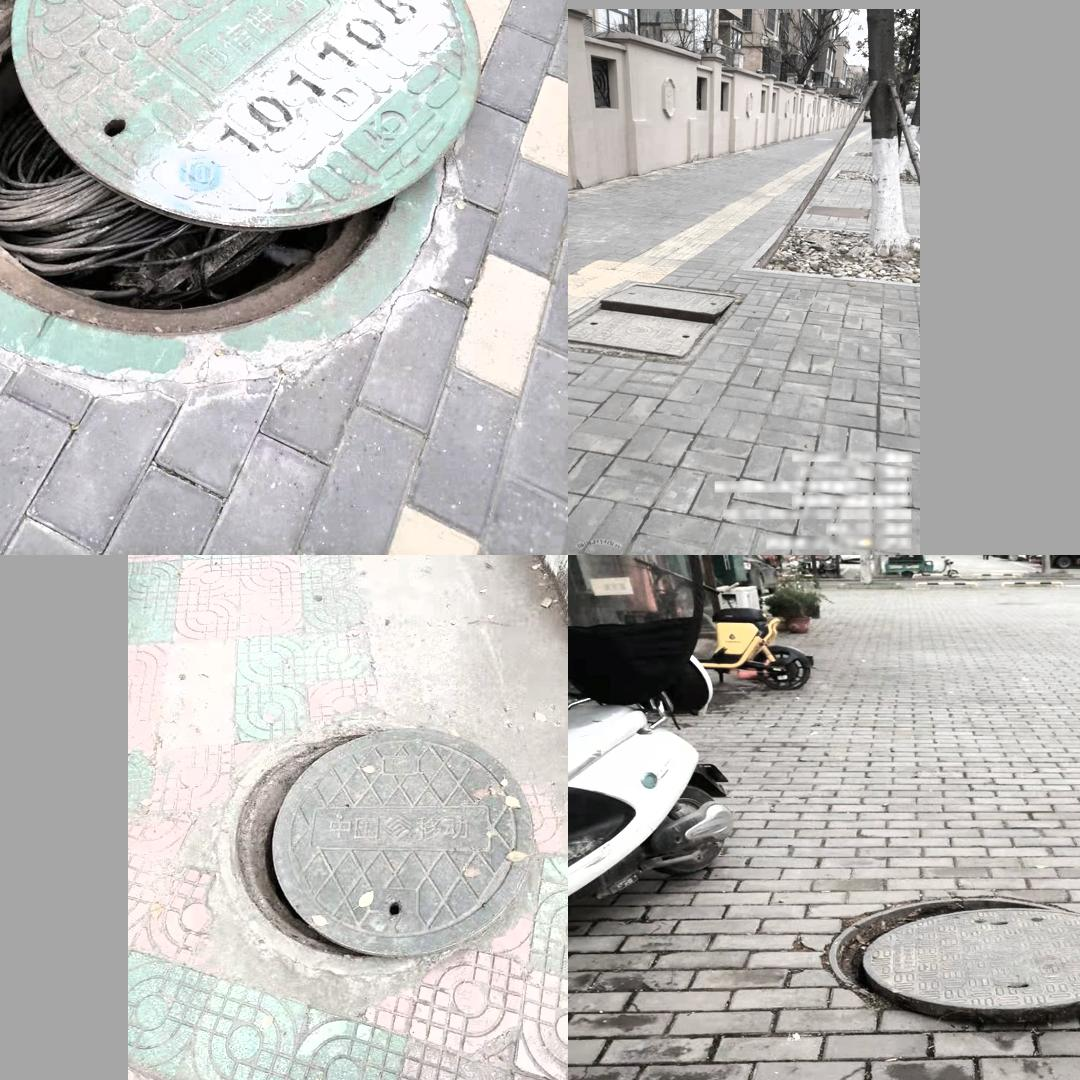uncovered: (0, 0, 485, 383), (227, 711, 548, 982), (800, 883, 1080, 1038), (568, 282, 747, 365)
